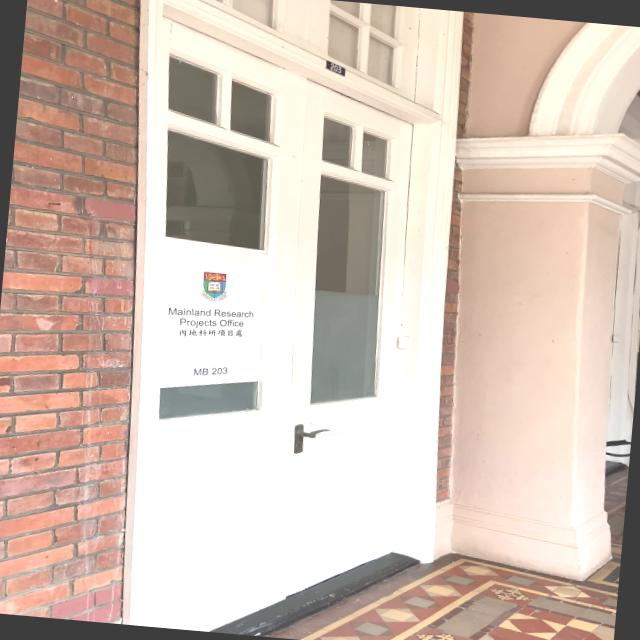room203: (322, 58, 346, 76)
room203Window: (186, 362, 235, 382)
